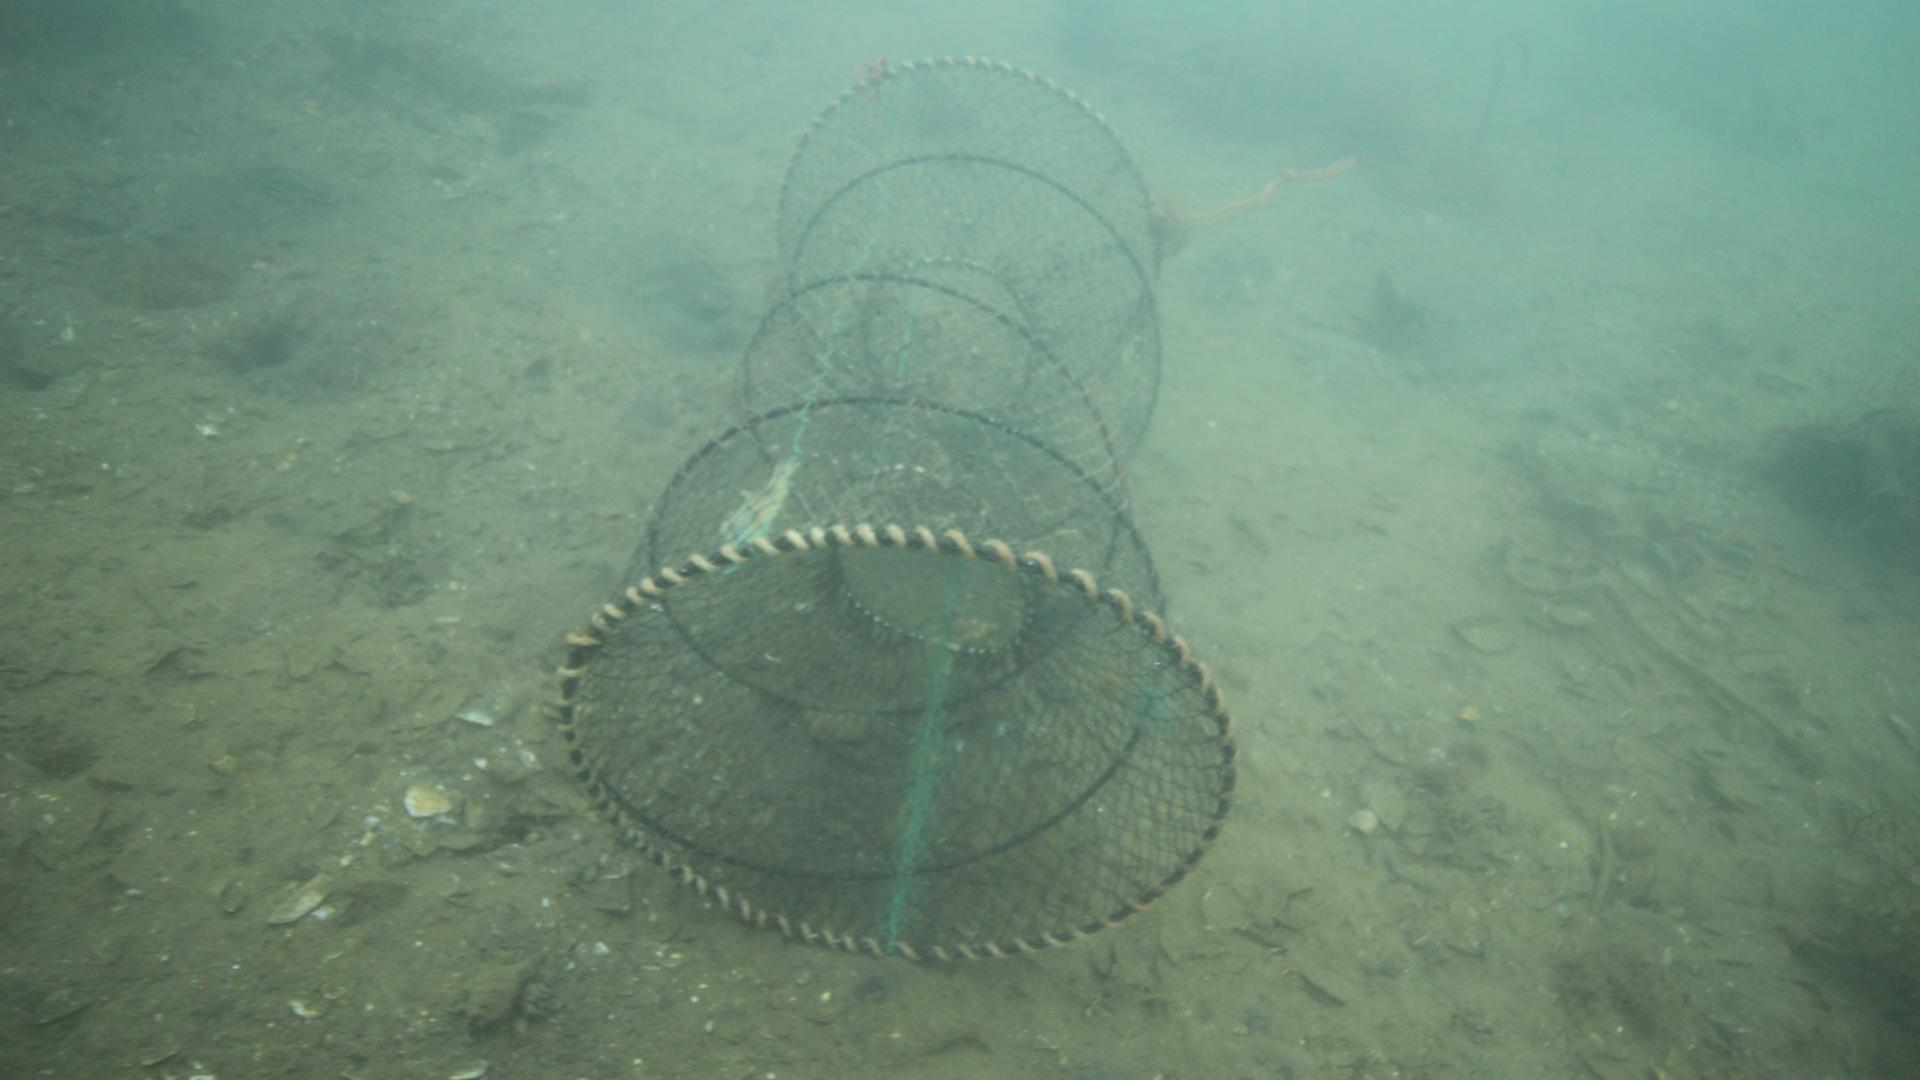bundle of ropes: (1174, 146, 1364, 231)
spring fish trap: (550, 50, 1244, 968)
